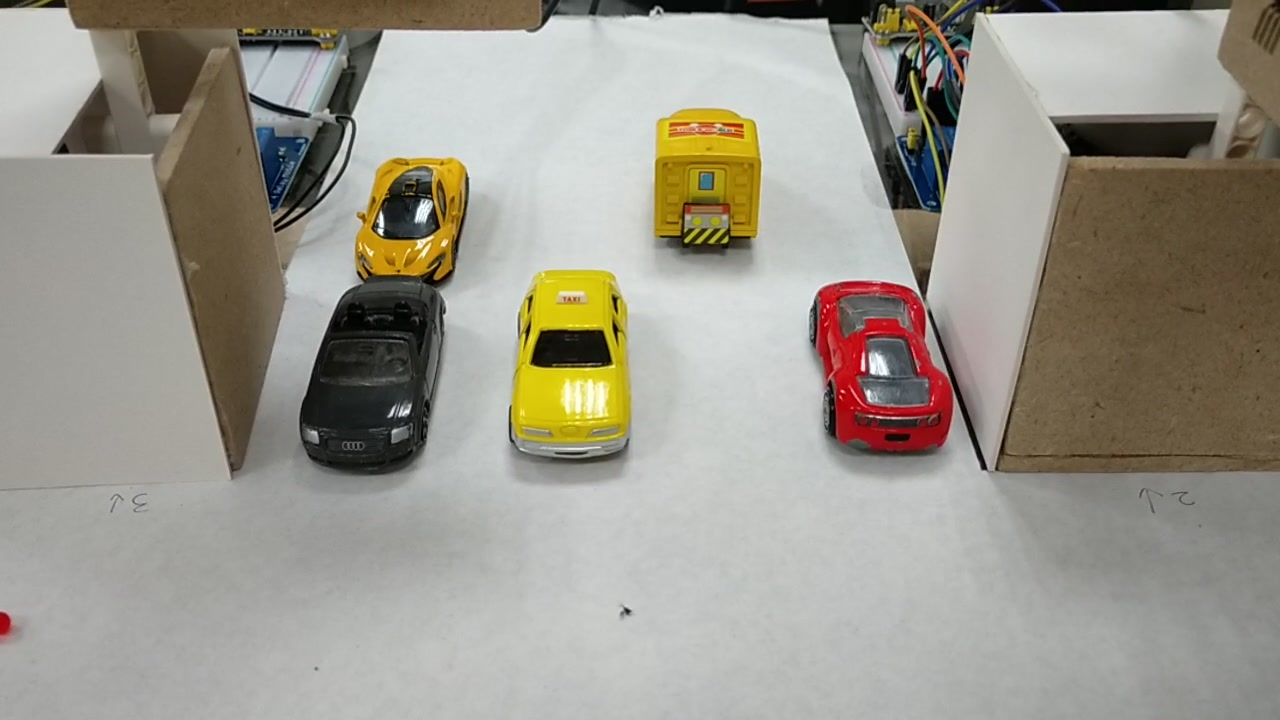car: (297, 286, 446, 464), (811, 281, 952, 457), (512, 275, 631, 454), (356, 148, 468, 286)
